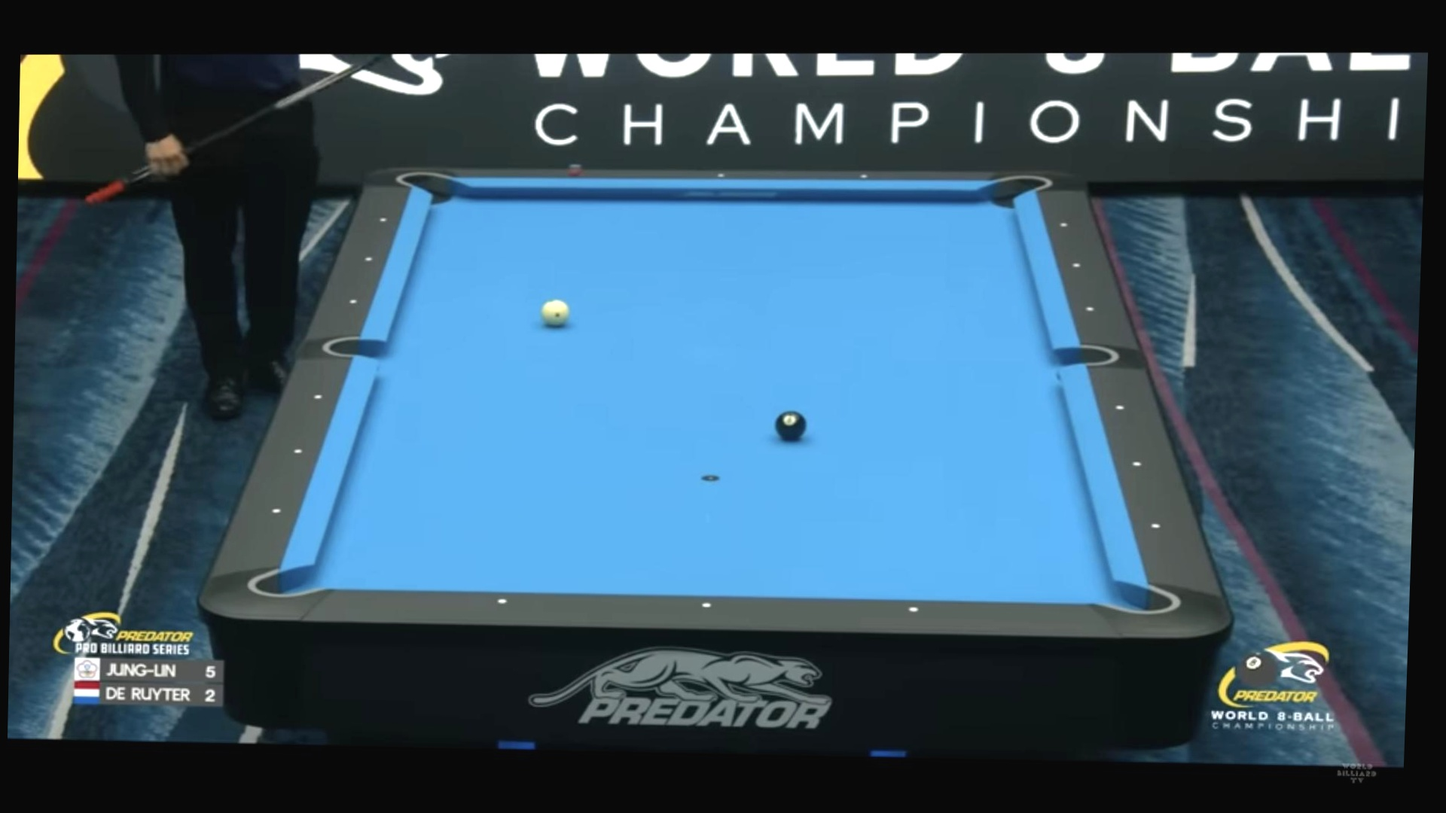Black: (774, 410, 807, 440)
Cue: (541, 298, 570, 327)
Solid: (1149, 520, 1162, 532), (1131, 458, 1143, 470), (1114, 402, 1126, 414), (495, 595, 508, 606), (907, 604, 920, 615), (701, 600, 713, 611), (271, 506, 283, 517), (312, 392, 324, 403), (293, 446, 304, 457), (1072, 262, 1083, 271), (716, 172, 727, 181), (1085, 305, 1095, 314), (1059, 220, 1069, 229), (860, 171, 870, 180), (349, 297, 358, 306), (364, 255, 373, 263), (379, 216, 388, 224)
